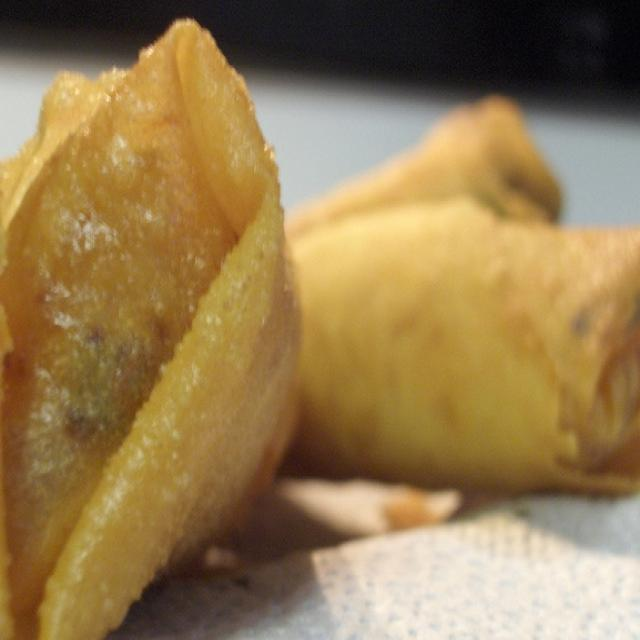炸货点心: (15, 15, 619, 637)
